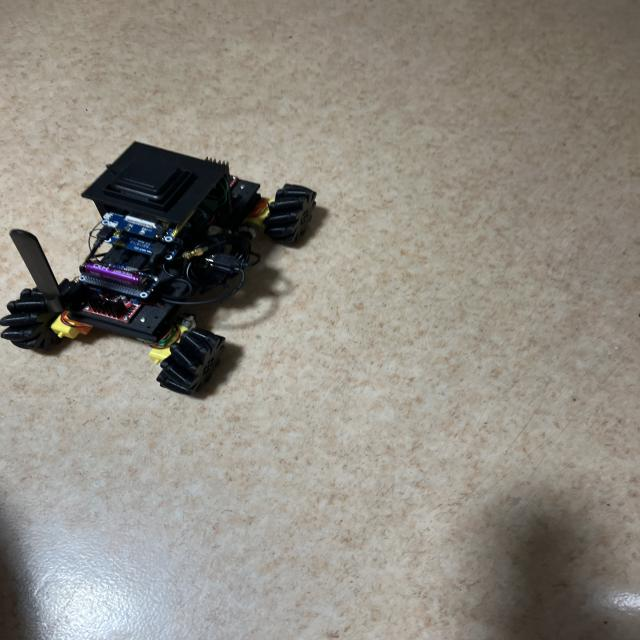robot: (0, 142, 320, 394)
